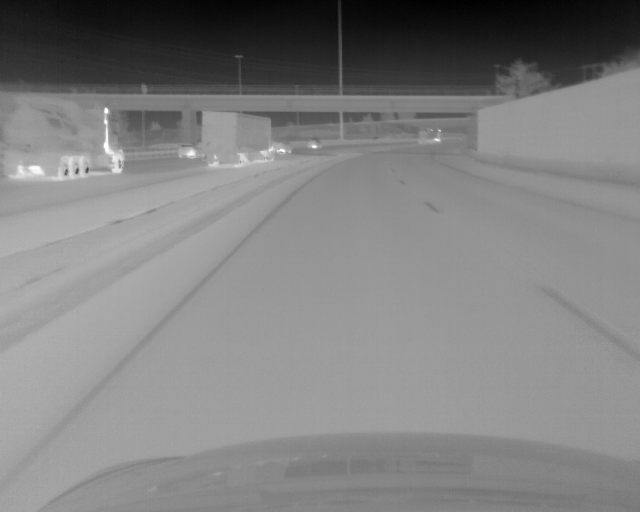car: (1, 102, 125, 182), (202, 111, 277, 167), (418, 129, 441, 145), (178, 144, 203, 158), (275, 139, 291, 154), (307, 139, 321, 149)
